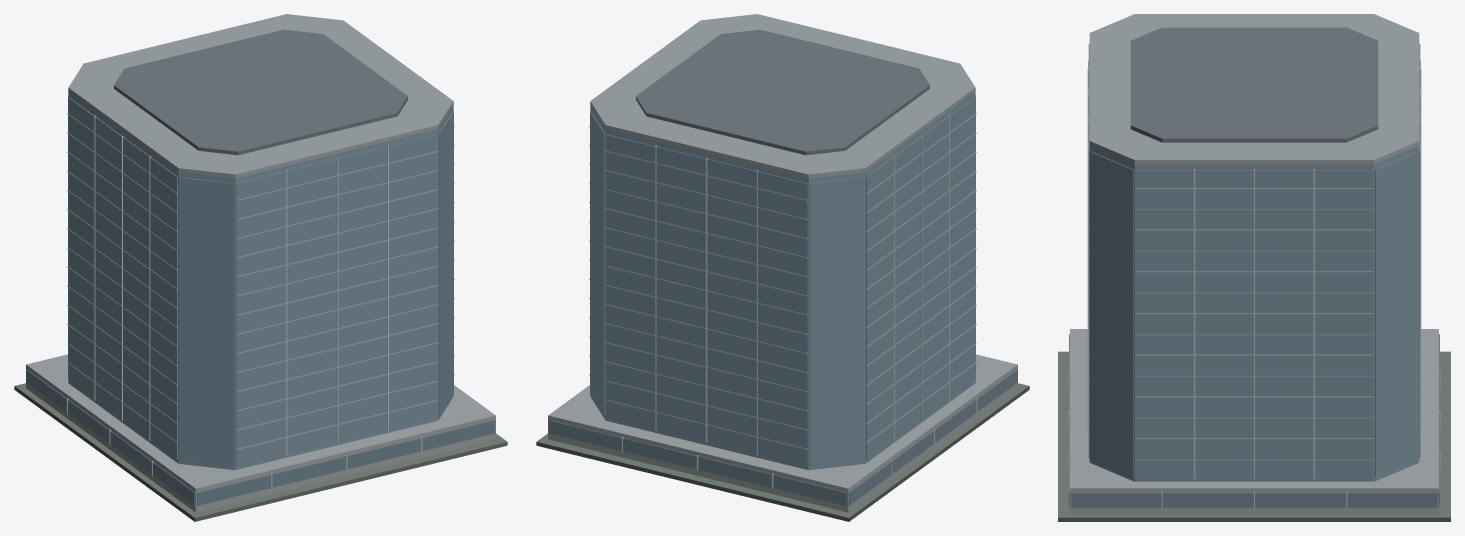
Rendered from commercial-office.glb.
3 renders of one model, left to right at view 1: azimuth 30°, elevation 25°; view 2: azimuth 150°, elevation 25°; view 3: azimuth 270°, elevation 25°, orthographic. The views are drawn at different scales.
Visible parts, largest first — view 1: commercial-office; view 2: commercial-office; view 3: commercial-office.
Part boxes in pixels (x1,y1,x2,y2): commercial-office: [14, 14, 507, 521]; commercial-office: [536, 14, 1029, 521]; commercial-office: [1058, 14, 1450, 521].
Bounding box in the file's own units: 1 × 1 × 1.
